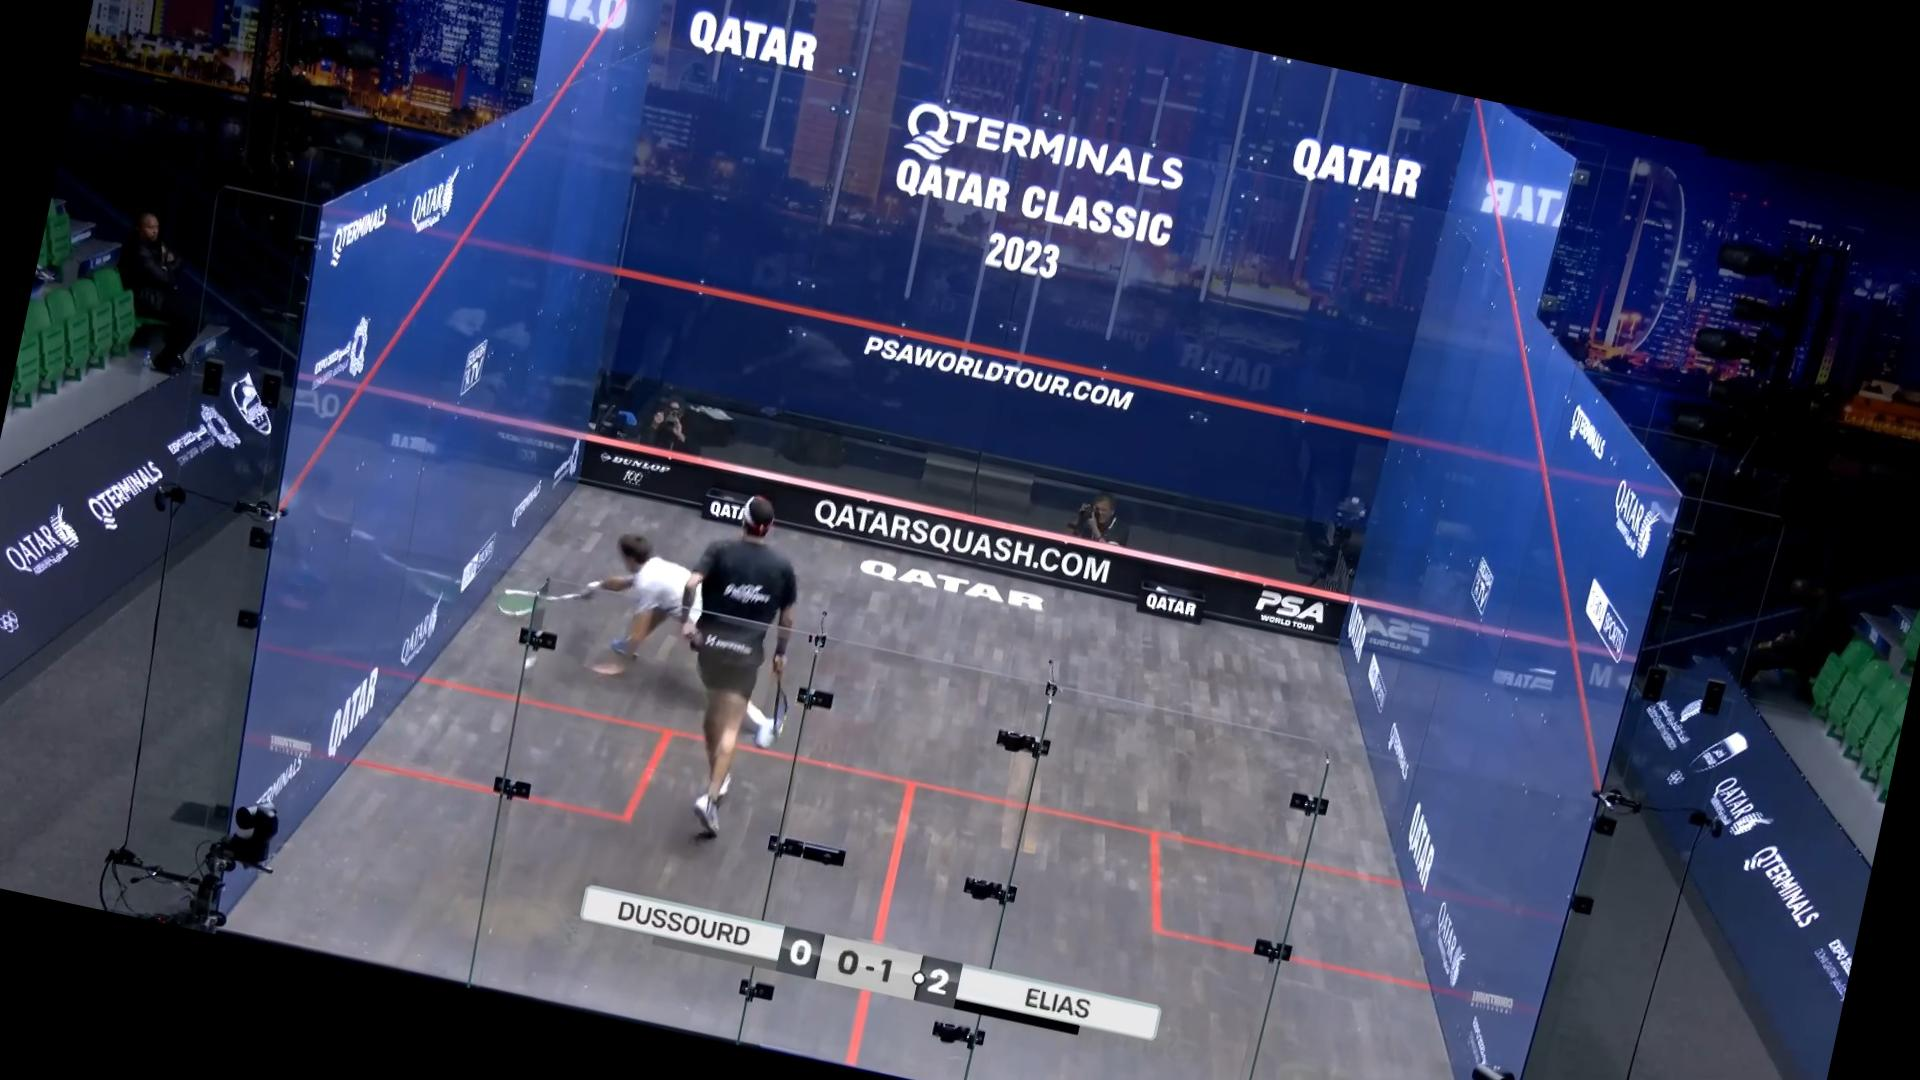Racket: (491, 571, 584, 640), (760, 667, 804, 736)
